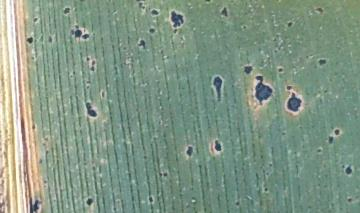tarspot: (250, 74, 275, 108), (209, 73, 227, 104), (167, 6, 185, 35), (285, 90, 304, 116), (71, 25, 92, 41), (26, 194, 43, 213), (85, 98, 99, 119), (84, 53, 97, 74), (211, 138, 224, 155), (182, 144, 196, 159), (135, 37, 149, 52), (218, 4, 231, 19), (284, 17, 297, 31), (316, 55, 328, 70), (241, 64, 254, 77), (83, 196, 96, 209), (155, 169, 171, 179), (144, 194, 156, 206), (343, 164, 354, 177), (313, 5, 326, 16), (148, 7, 162, 17), (25, 34, 36, 46), (146, 25, 157, 36), (315, 144, 325, 156), (62, 4, 72, 16), (136, 1, 147, 11), (46, 34, 56, 45), (282, 83, 293, 92), (29, 120, 37, 132), (327, 134, 336, 144), (28, 52, 37, 62), (333, 127, 341, 138), (276, 65, 285, 74), (346, 196, 355, 204), (98, 90, 107, 98), (32, 15, 41, 23), (233, 201, 241, 209), (241, 23, 249, 31), (263, 187, 269, 195)
